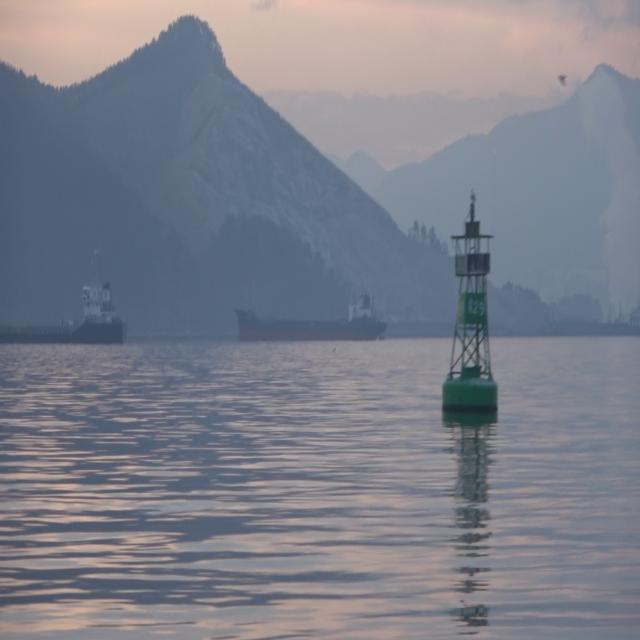ship: (0, 247, 124, 343), (234, 282, 387, 340)
